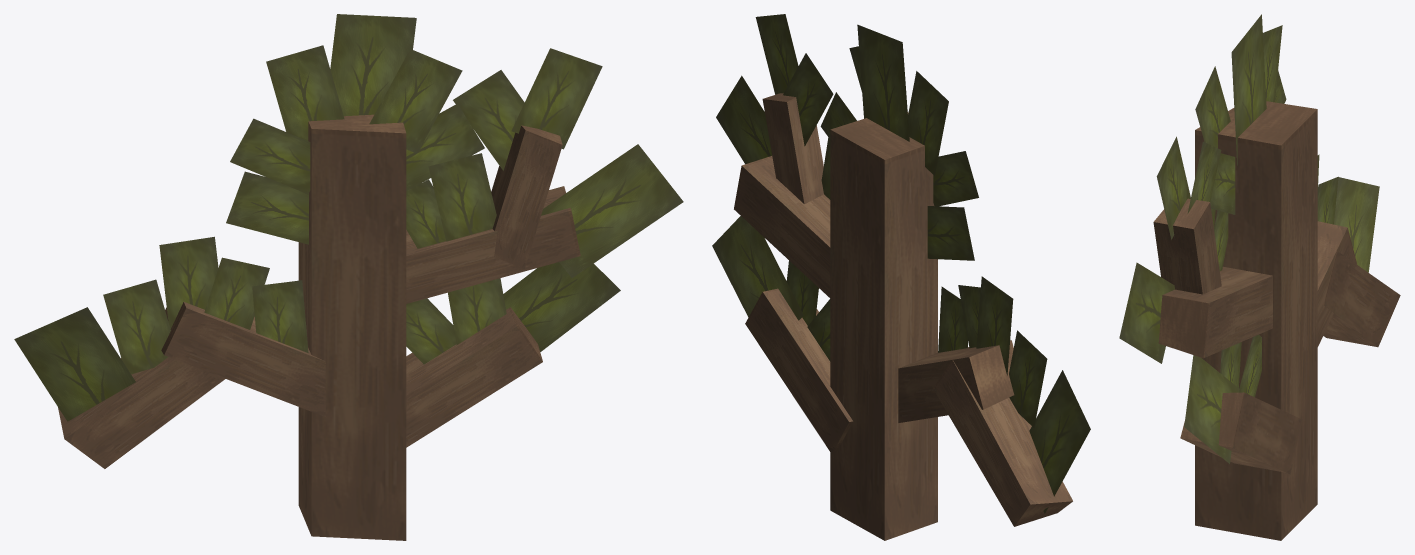
File: Bush.fbx
3 renders of one model, left to right at view 1: azimuth 30°, elevation 25°; view 2: azimuth 150°, elevation 25°; view 3: azimuth 270°, elevation 25°, orthographic. The views are drawn at different scales.
Visible parts, largest first — view 1: Bush; view 2: Bush; view 3: Bush.
Boxes of the visible parts, x1=… form: Bush: x1=14, y1=14, x2=683, y2=540; Bush: x1=712, y1=14, x2=1090, y2=540; Bush: x1=1119, y1=14, x2=1400, y2=540.
Size of the model in its own units: 0.9957 by 0.9066 by 0.467.
